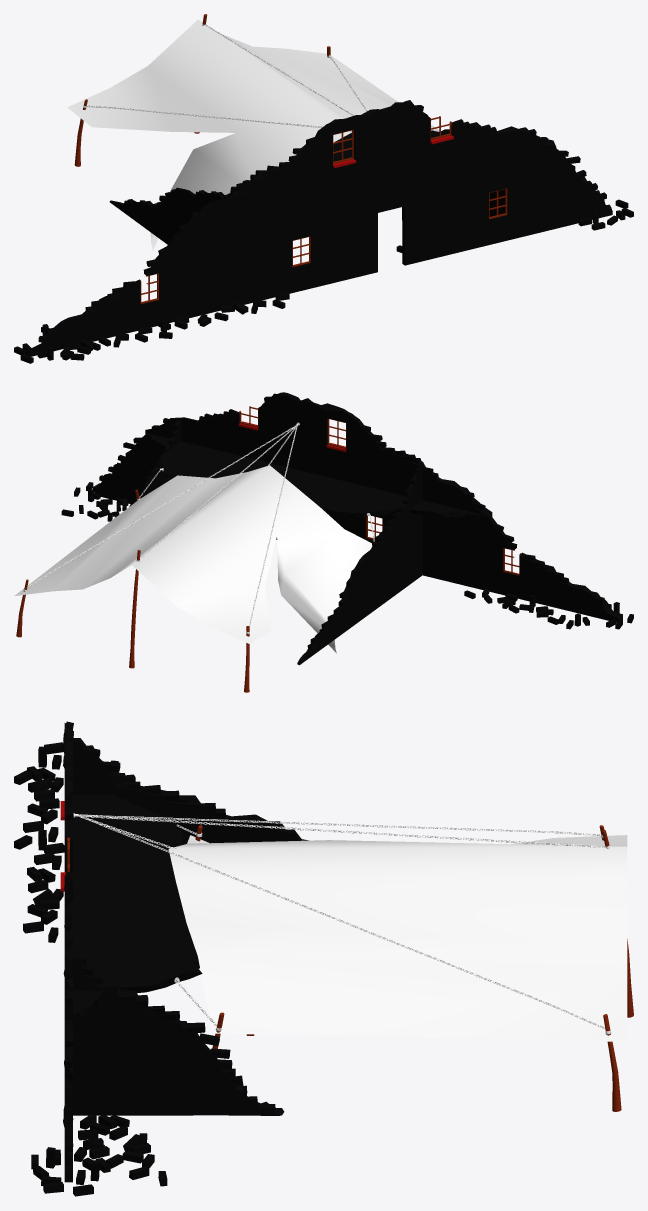
The model's file is LieuxDeCulte_01.fbx.
3 renders of one model, top to bottom at view 1: azimuth 30°, elevation 25°; view 2: azimuth 150°, elevation 25°; view 3: azimuth 270°, elevation 25°, orthographic. The views are drawn at different scales.
Parts seen in each view (by area): view 1: LieuxDeCulte_01; view 2: LieuxDeCulte_01; view 3: LieuxDeCulte_01.
Boxes of the visible parts, box(x1,y1,x2,y2) form: LieuxDeCulte_01: box(14, 14, 633, 363); LieuxDeCulte_01: box(14, 392, 633, 692); LieuxDeCulte_01: box(14, 721, 633, 1196).
Bounding box in the file's own units: 2194 × 623 × 1285.
